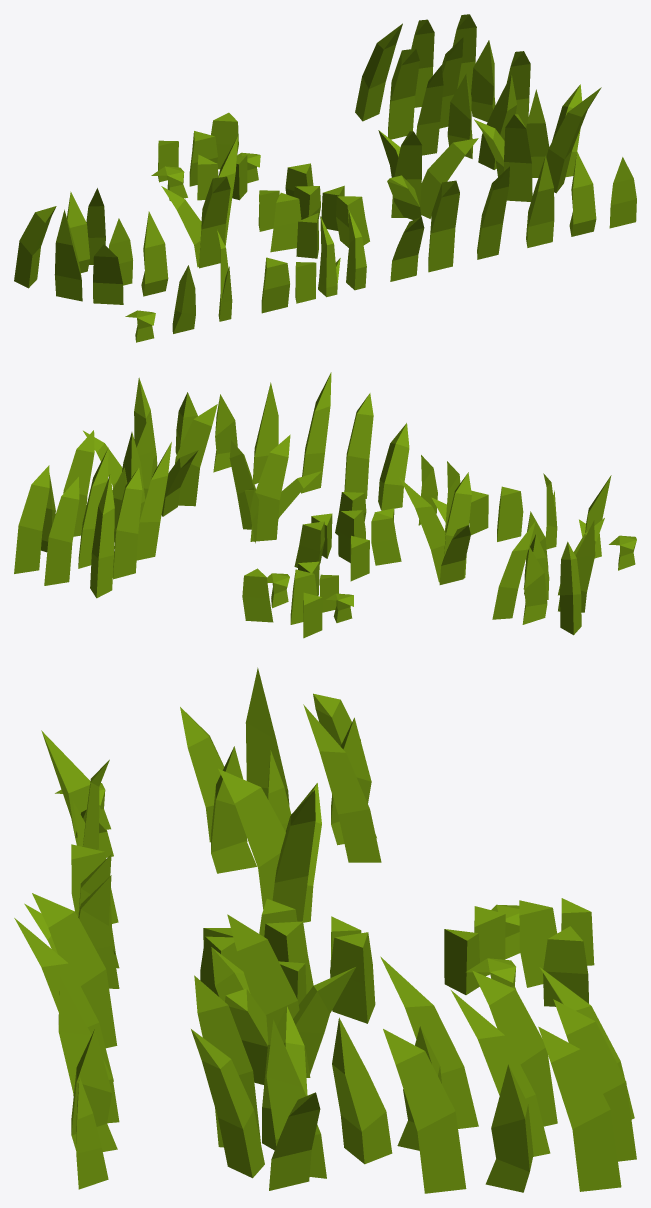
3 views of the same model, one above another, from view 1: azimuth 30°, elevation 25°; view 2: azimuth 150°, elevation 25°; view 3: azimuth 270°, elevation 25° (orthographic). The views are drawn at different scales.
Visible parts, largest first — view 1: GrassBunch7_4, GrassBunch1_10, GrassBunch4_6, GrassBunch3_8, GrassBunch6_5, GrassBunch5_7, GrassBunch2_9, Grass1_23, Grass5_20, Grass4_21, Grass2_22, Grass13_18 (+8 smaller); view 2: GrassBunch7_4, GrassBunch1_10, GrassBunch4_6, GrassBunch3_8, GrassBunch6_5, GrassBunch5_7, GrassBunch2_9, Grass1_23, Grass4_21, Grass3_19, Grass5_20, Grass8_15 (+8 smaller); view 3: GrassBunch7_4, GrassBunch4_6, GrassBunch1_10, GrassBunch6_5, GrassBunch5_7, GrassBunch3_8, GrassBunch2_9, Grass1_23, Grass2_22, Grass4_21, Grass5_20, Grass9_13 (+5 smaller).
Part boxes in pixels (x1,y1,x2,y2): GrassBunch7_4: (355,14,530,158); GrassBunch1_10: (14,188,168,304); GrassBunch4_6: (474,74,601,201); GrassBunch3_8: (258,163,369,258); GrassBunch6_5: (151,112,260,200); GrassBunch5_7: (378,130,478,219); GrassBunch2_9: (161,136,237,268); Grass1_23: (428,180,459,272); Grass5_20: (526,156,554,247); Grass4_21: (477,166,509,259); Grass2_22: (569,151,596,236); Grass13_18: (609,157,636,228); GrassBunch7_4: (14,430,171,598); GrassBunch1_10: (492,511,604,635); GrassBunch4_6: (83,377,217,521); GrassBunch3_8: (294,492,401,581); GrassBunch6_5: (242,561,353,638); GrassBunch5_7: (229,434,321,543); GrassBunch2_9: (399,472,471,584); Grass1_23: (344,393,373,498); Grass4_21: (301,372,331,493); Grass3_19: (378,423,409,510); Grass5_20: (253,382,278,484); Grass8_15: (497,486,523,541); GrassBunch7_4: (380,956,636,1193); GrassBunch4_6: (191,975,392,1190); GrassBunch1_10: (180,667,381,873); GrassBunch6_5: (444,898,594,1006); GrassBunch5_7: (211,914,355,1084); GrassBunch3_8: (200,899,375,1023); GrassBunch2_9: (218,768,321,922); Grass1_23: (32,893,117,1048); Grass2_22: (71,1029,117,1151); Grass4_21: (14,918,113,1081); Grass5_20: (58,974,119,1123); Grass9_13: (41,730,113,857).
Size of the model in its own units: 3.37 by 0.6535 by 2.18.
